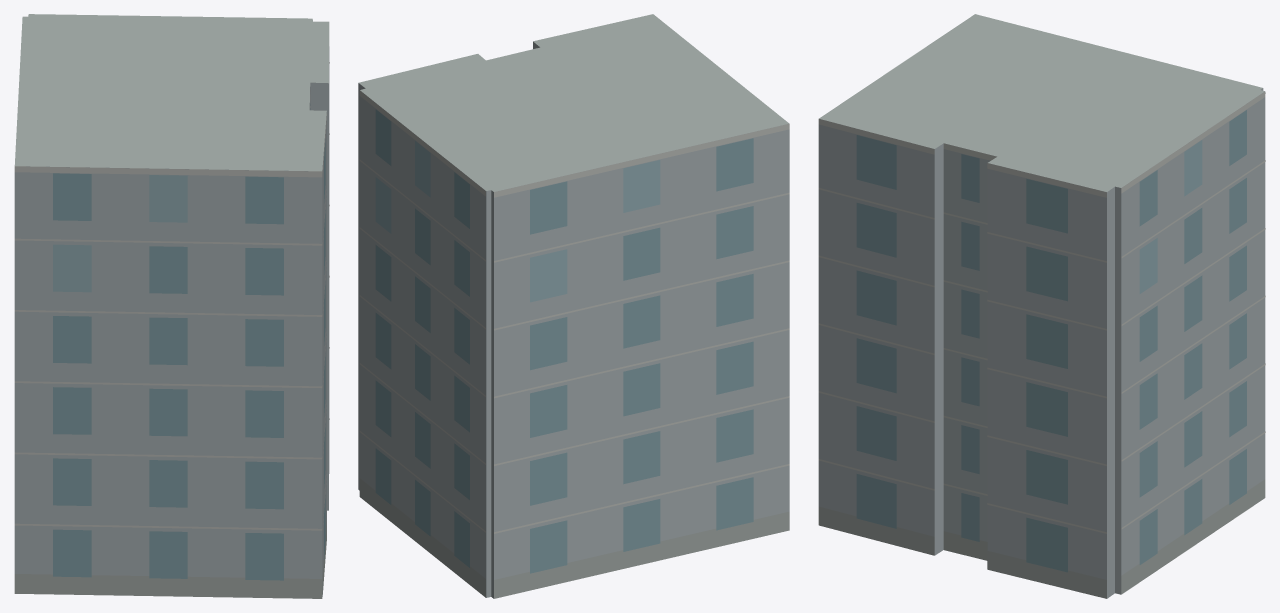
File: survey-upis-32929133.glb
The picture shows the model from 3 angles, left to right: view 1: azimuth 30°, elevation 25°; view 2: azimuth 150°, elevation 25°; view 3: azimuth 270°, elevation 25°; orthographic projection. The views are drawn at different scales.
Visible parts, largest first — view 1: survey-upis-32929133.tmp; view 2: survey-upis-32929133.tmp; view 3: survey-upis-32929133.tmp.
Part boxes in pixels (x1,y1,x2,y2): survey-upis-32929133.tmp: (14,14,329,598); survey-upis-32929133.tmp: (358,14,789,598); survey-upis-32929133.tmp: (818,14,1265,598).
Bounding box in the file's own units: 16.28 × 17.3 × 17.23.
